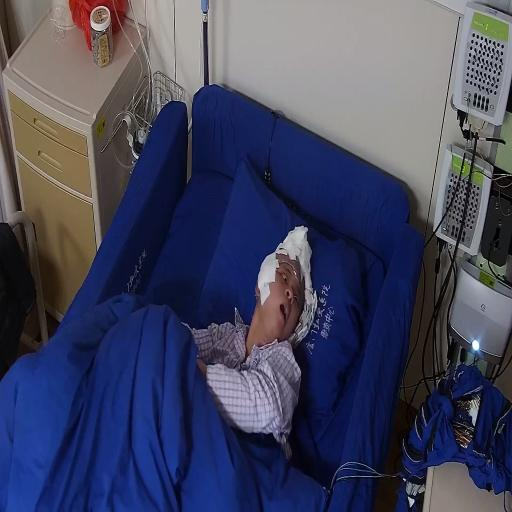Seizure: (255, 240, 312, 347)
